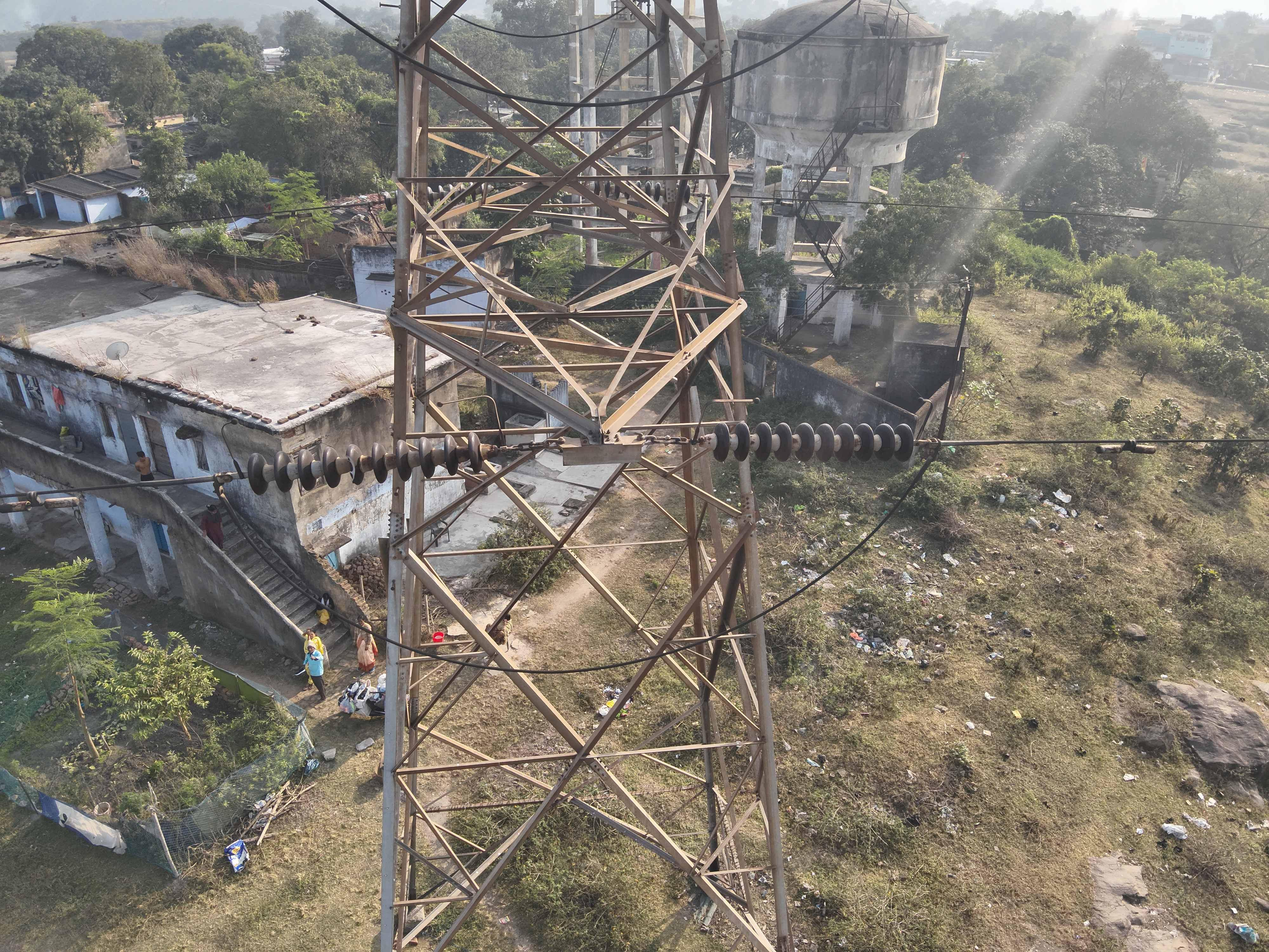broken_insulator: (340, 441, 365, 486)
